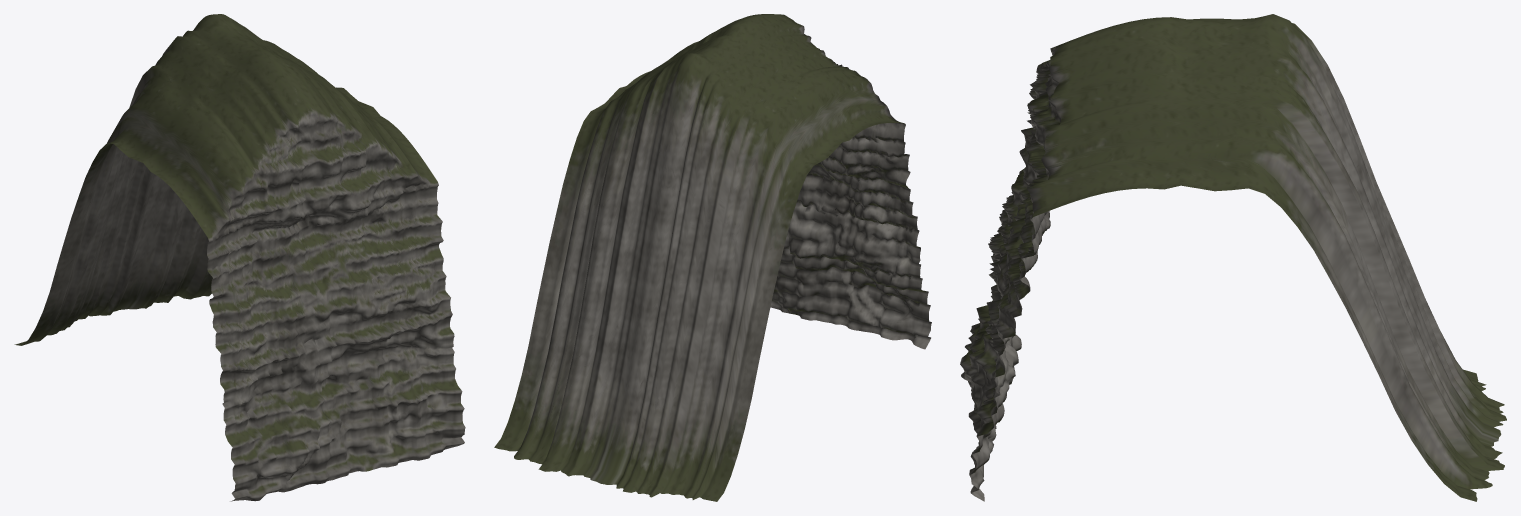
File: SM_cliff_03.fbx
3 views of the same model, side by side, from view 1: azimuth 30°, elevation 25°; view 2: azimuth 150°, elevation 25°; view 3: azimuth 270°, elevation 25° (orthographic). The views are drawn at different scales.
Parts seen in each view (by area): view 1: SM_cliff_03; view 2: SM_cliff_03; view 3: SM_cliff_03.
Boxes of the visible parts, x1,y1,x2,y2 form: SM_cliff_03: (14,14,465,501); SM_cliff_03: (494,14,931,501); SM_cliff_03: (960,14,1506,501).
Bounding box in the file's own units: 24 × 36.74 × 43.16.
